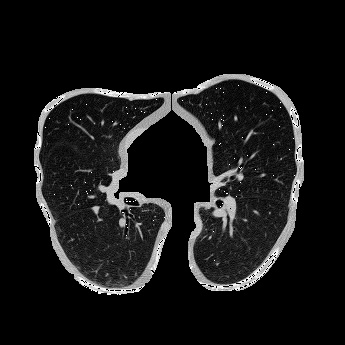PN: (92, 205, 100, 213)
